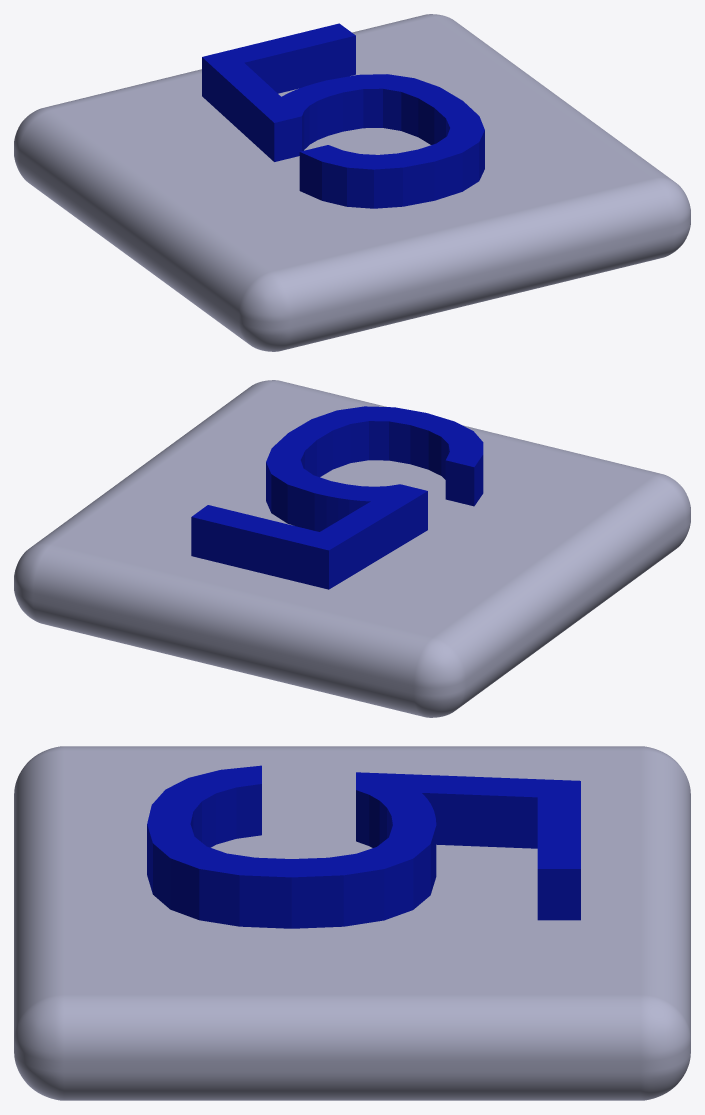
The model's file is button5.glb.
The picture shows the model from 3 angles, top to bottom: view 1: azimuth 30°, elevation 25°; view 2: azimuth 150°, elevation 25°; view 3: azimuth 270°, elevation 25°; orthographic projection. The views are drawn at different scales.
Visible parts, largest first — view 1: Box, 3D Text - 5; view 2: Box, 3D Text - 5; view 3: Box, 3D Text - 5.
Part boxes in pixels (box(x1,y1,x2,y2)): Box: box(14, 14, 690, 351); 3D Text - 5: box(202, 23, 484, 208); Box: box(14, 380, 690, 717); 3D Text - 5: box(191, 406, 483, 589); Box: box(14, 746, 690, 1100); 3D Text - 5: box(147, 765, 580, 928).
Size of the model in its own units: 0.1 by 0.0249 by 0.1.
